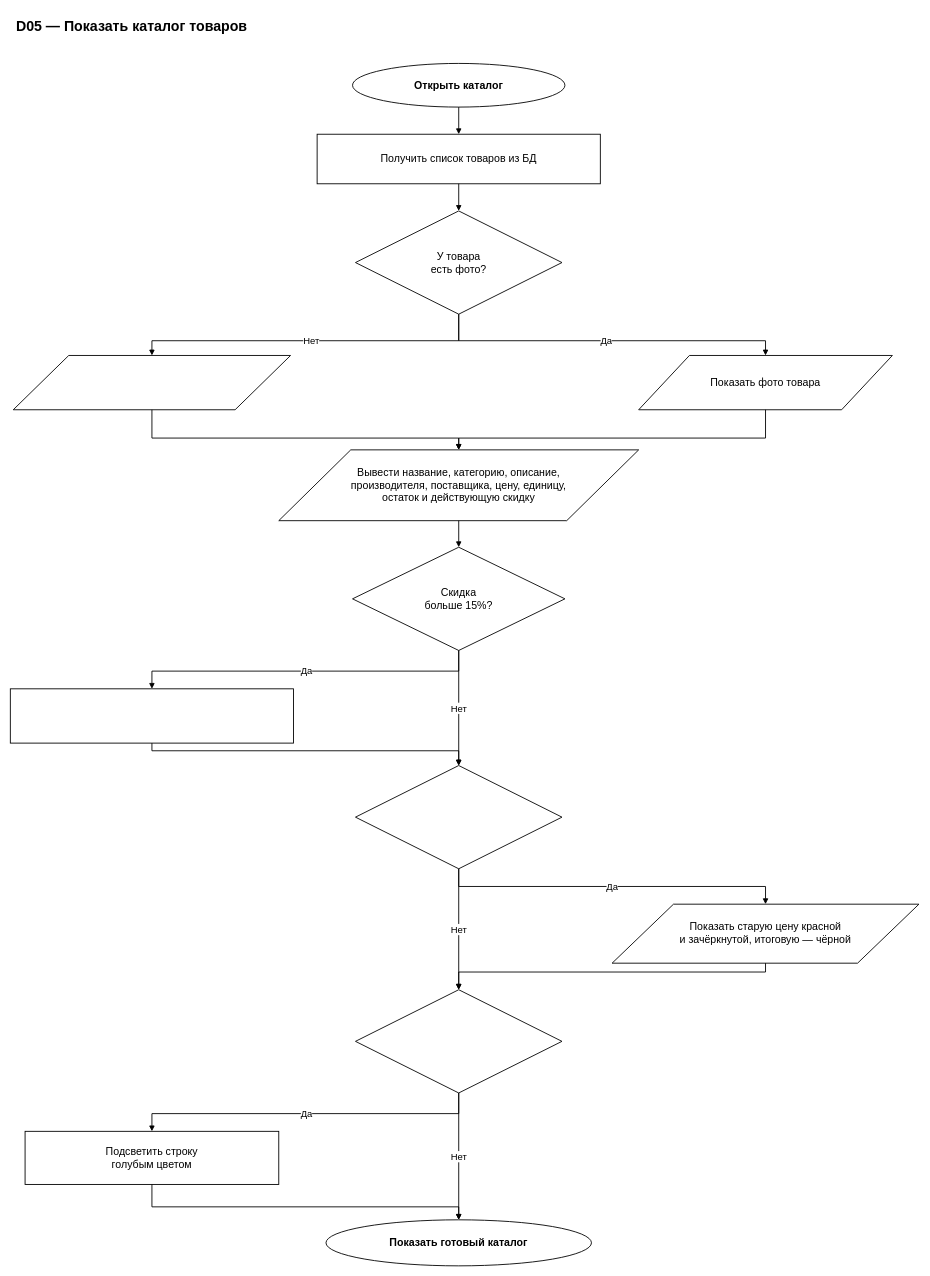
The diagram is 930 pixels wide and 1276 high, and some of its shapes have lost their labels. The shapes that lost their labels are listed below. From the top down, each one's centre as x and y in pixels, then its label:
[152,382]: Показать картинку-заглушку picture.png
[152,715]: Подсветить строку зелёным цветом #2E8B57
[458,817]: Цена снижена?
[458,1041]: Остаток равен нулю?
